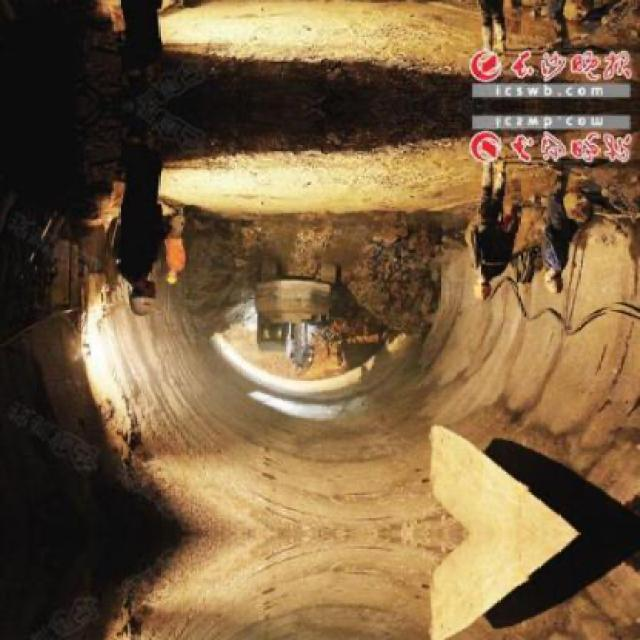con casco: (106, 281, 169, 321)
